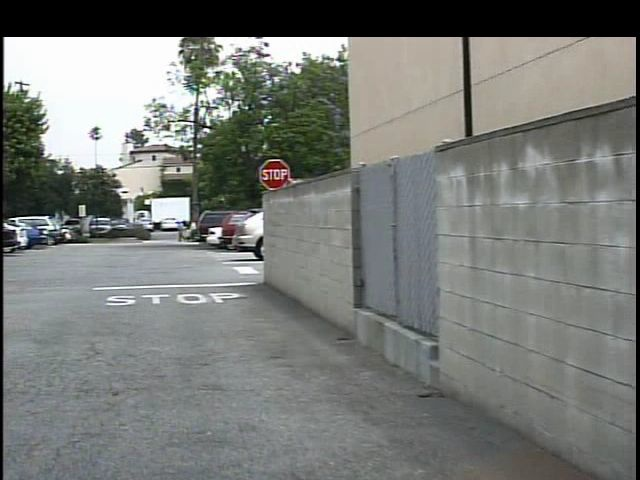person: (166, 218, 180, 244)
